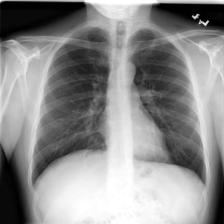normal: (30, 20, 210, 197)
